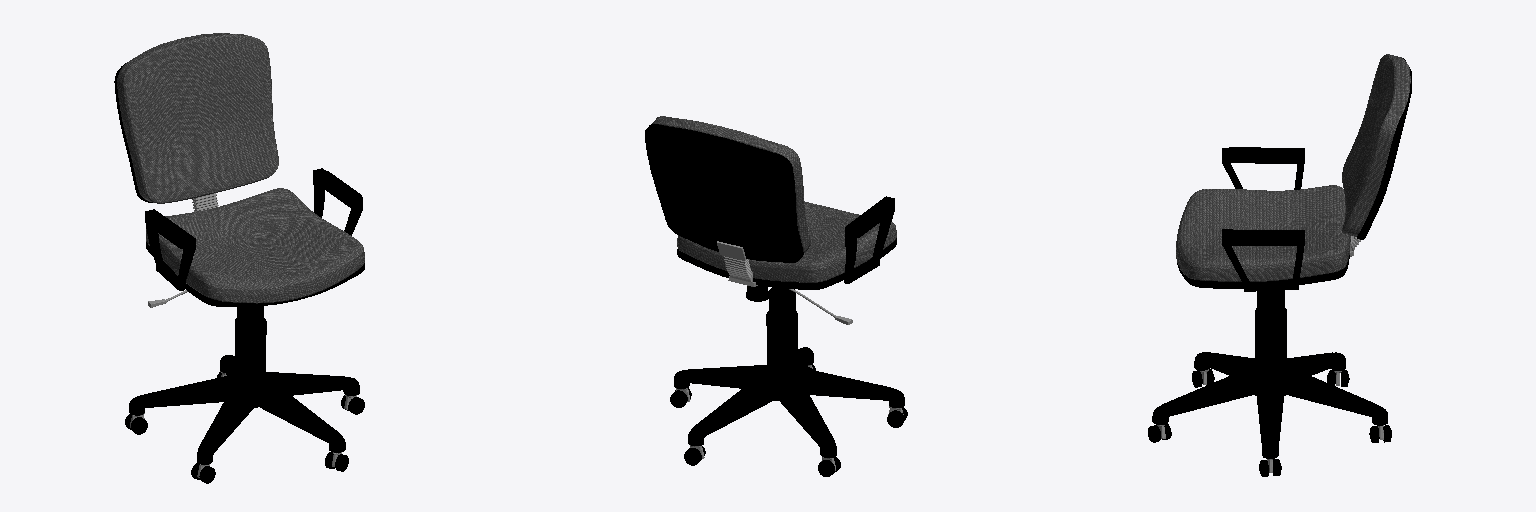
3 views of the same model, side by side, from view 1: azimuth 30°, elevation 25°; view 2: azimuth 150°, elevation 25°; view 3: azimuth 270°, elevation 25° (orthographic).
Visible parts, largest first — view 1: Office_chair; view 2: Office_chair; view 3: Office_chair.
Part boxes in pixels (x1,y1,x2,y2): Office_chair: (114, 33, 364, 483); Office_chair: (645, 116, 907, 476); Office_chair: (1148, 54, 1411, 476).
Size of the model in its own units: 542 by 902 by 619.
3 materials, 1 textured.